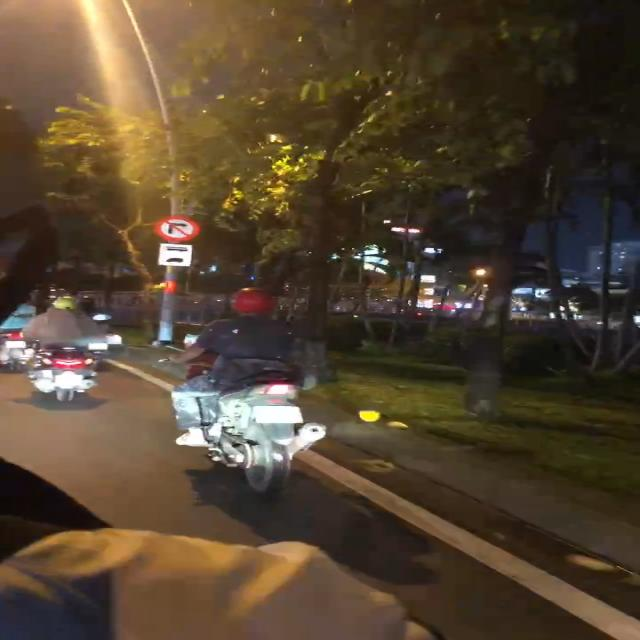Bien bao cam re phai: (155, 212, 202, 243)
